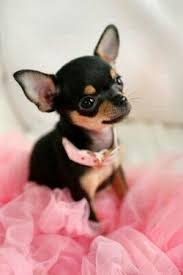chihuahua: (2, 15, 154, 223)
